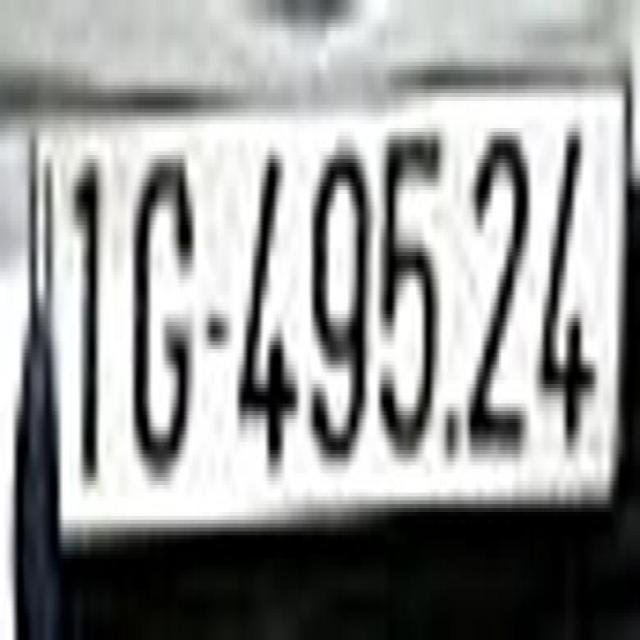1: (72, 166, 102, 470)
2: (471, 124, 525, 446)
4: (235, 143, 298, 481), (544, 124, 595, 458)
5: (382, 120, 440, 466)
9: (312, 140, 363, 473)
G: (130, 148, 192, 474)
